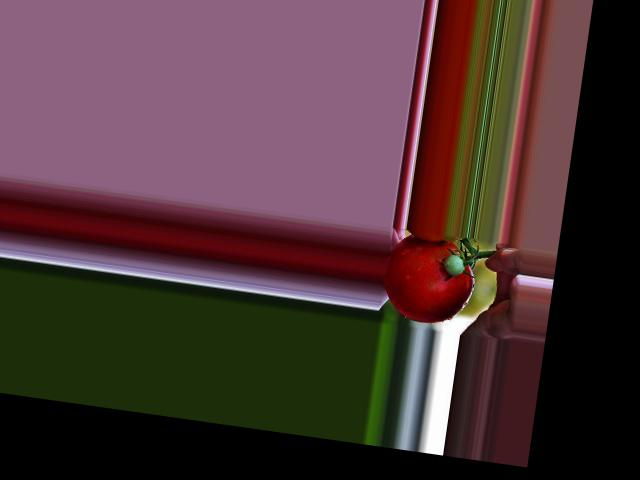tomato: (378, 232, 480, 328)
